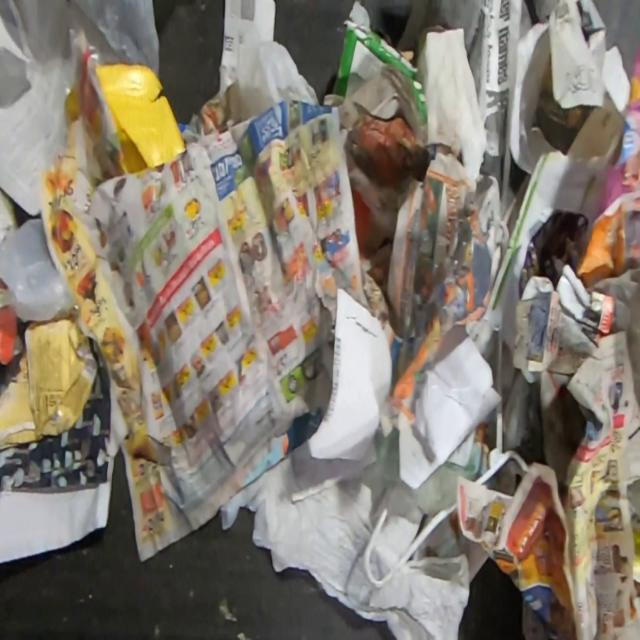cardboard: (323, 0, 425, 143), (564, 90, 626, 159)
rigid_plastic: (92, 61, 188, 179), (472, 334, 530, 483), (363, 501, 456, 589)
soft_plastic: (8, 0, 161, 173), (0, 217, 78, 322)
